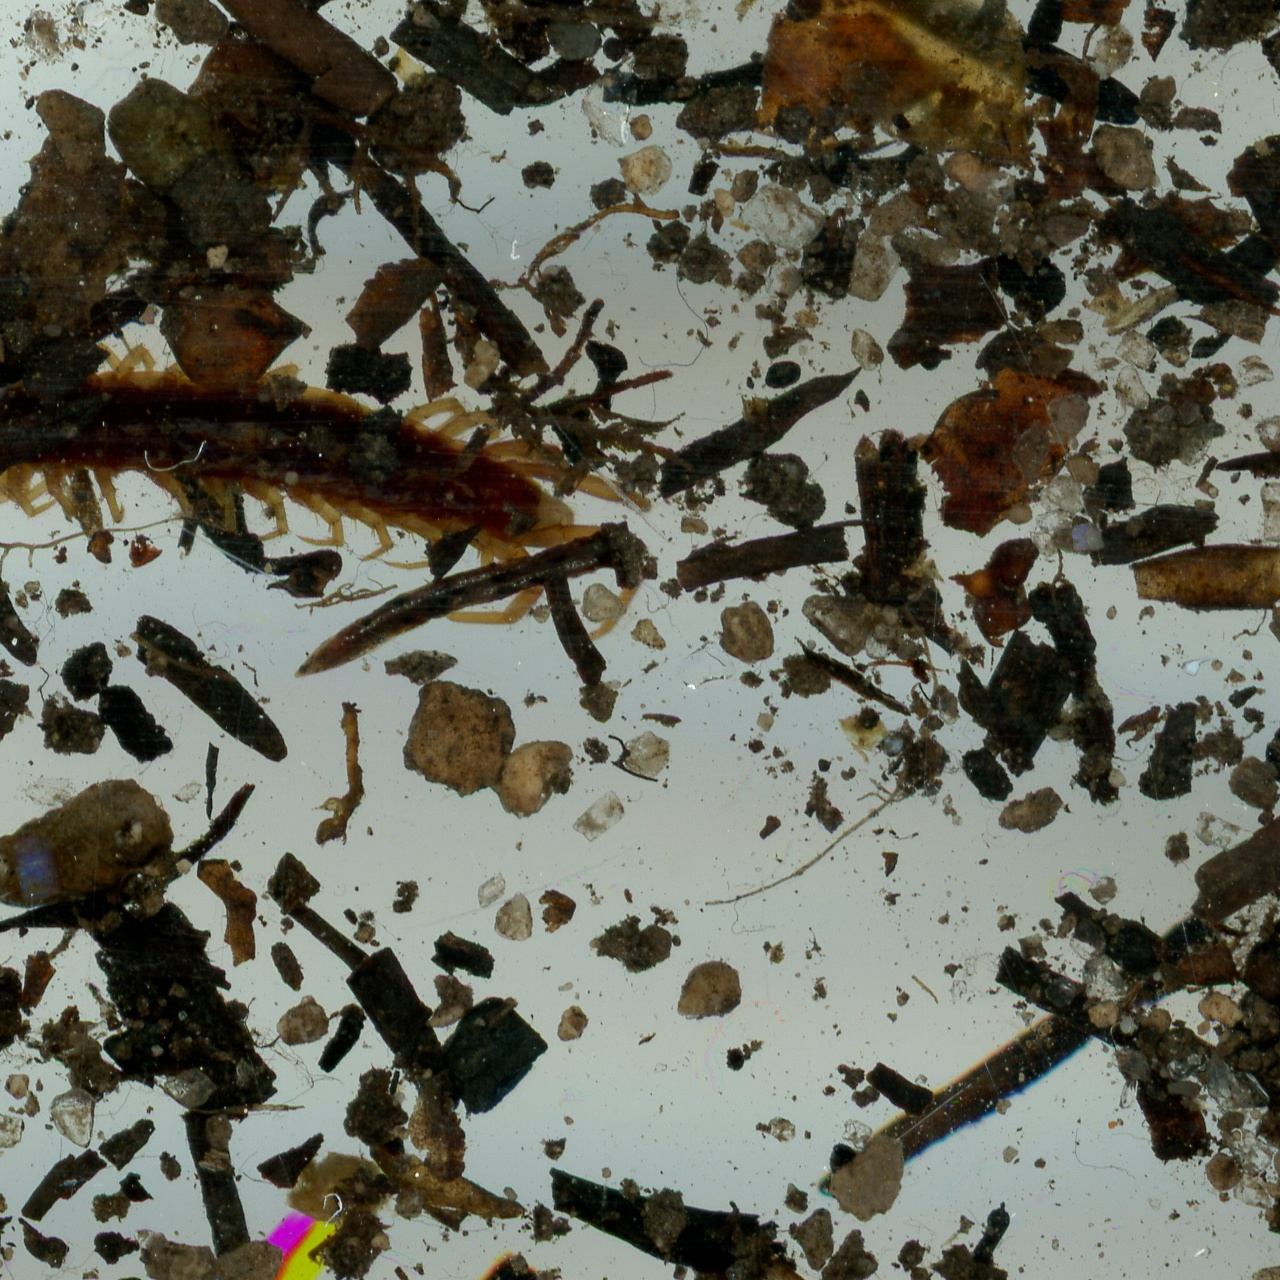arthropod: (0, 346, 659, 649)
